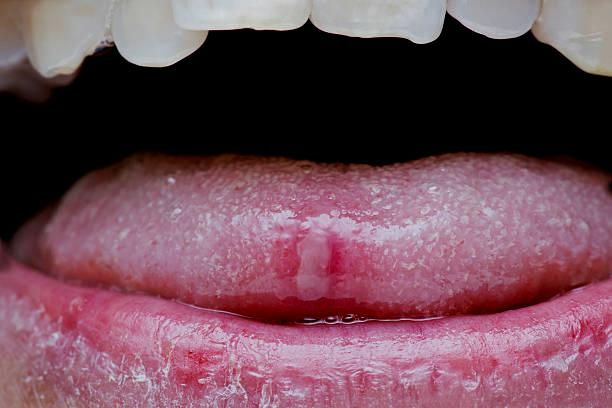Ulcer: (281, 210, 359, 311)
